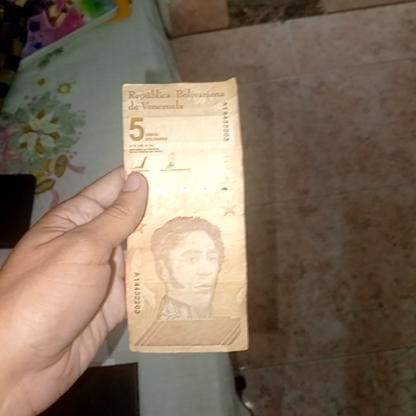vef_front: (122, 79, 247, 355)
